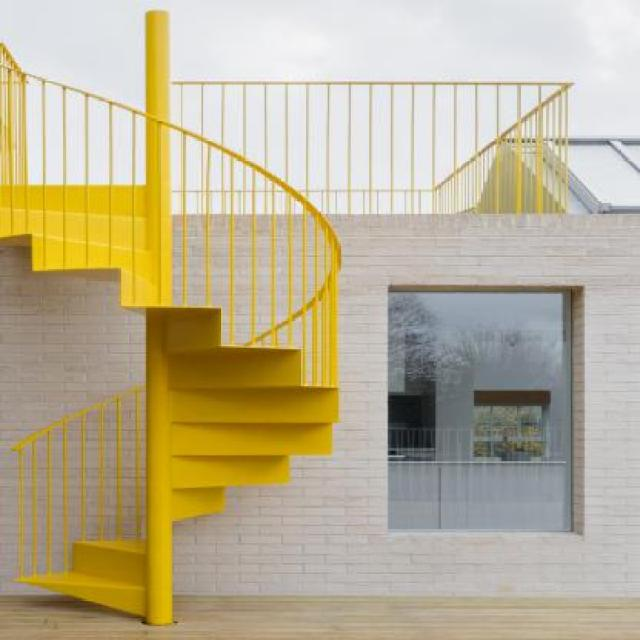stair: (0, 82, 365, 638)
